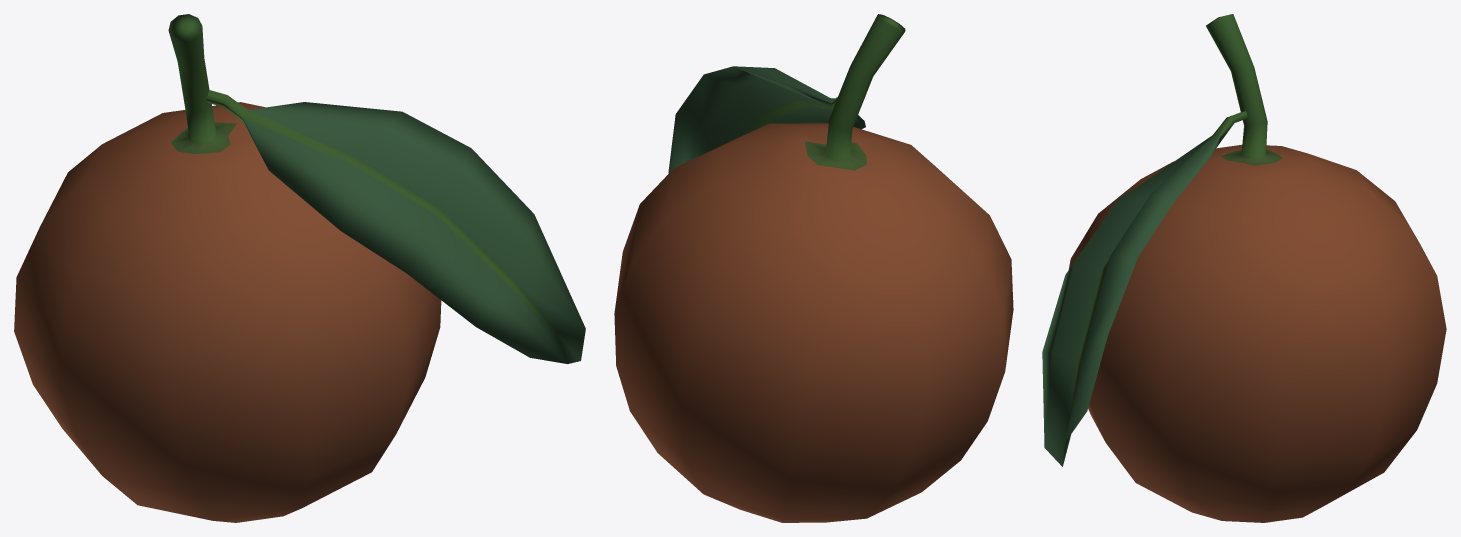
The model's file is SM_Fruits_Orange_1.glb.
The picture shows the model from 3 angles, left to right: view 1: azimuth 30°, elevation 25°; view 2: azimuth 150°, elevation 25°; view 3: azimuth 270°, elevation 25°; orthographic projection. The views are drawn at different scales.
Parts seen in each view (by area): view 1: geometry_0; view 2: geometry_0; view 3: geometry_0.
Part boxes in pixels (left/top/right/bottom): geometry_0: left=14, top=14, right=585, bottom=522; geometry_0: left=614, top=14, right=1013, bottom=522; geometry_0: left=1042, top=14, right=1446, bottom=522.
Bounding box in the file's own units: 0.1885 × 0.2143 × 0.1676.
1 material, 1 textured.
